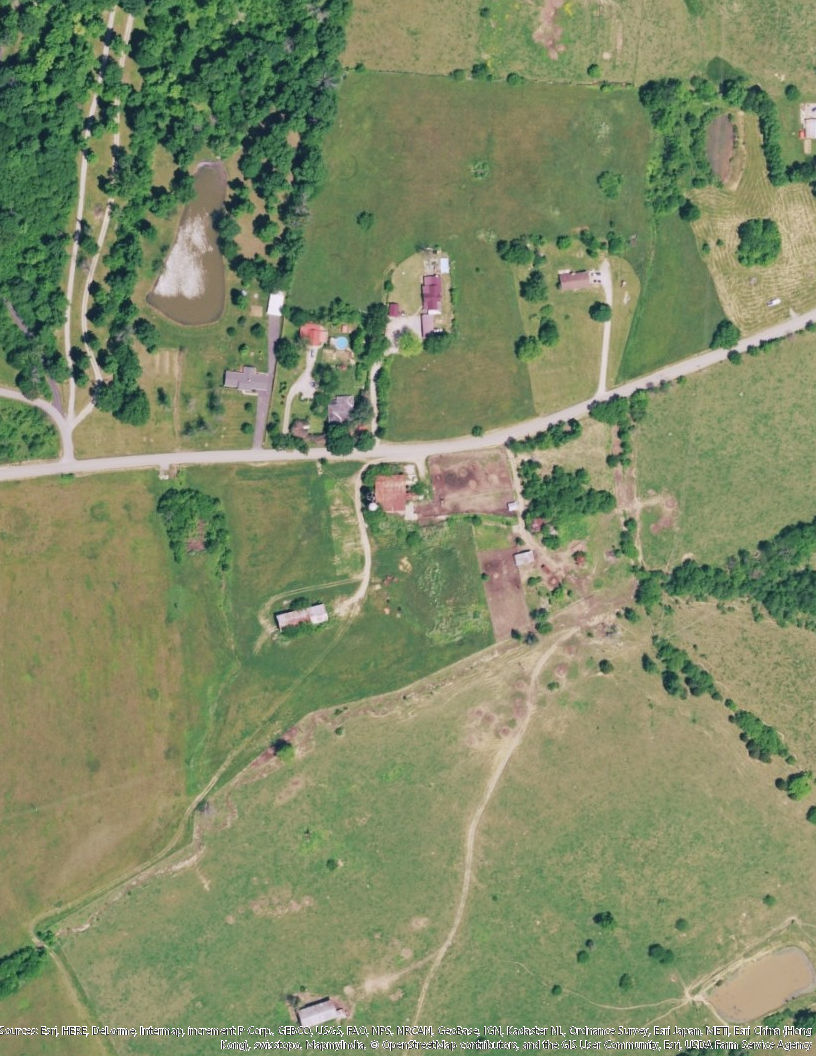cafo: (274, 600, 334, 638), (370, 472, 413, 524)
